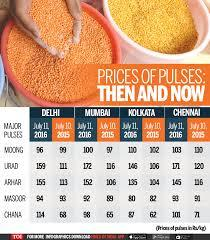Organic: (4, 4, 210, 104)
